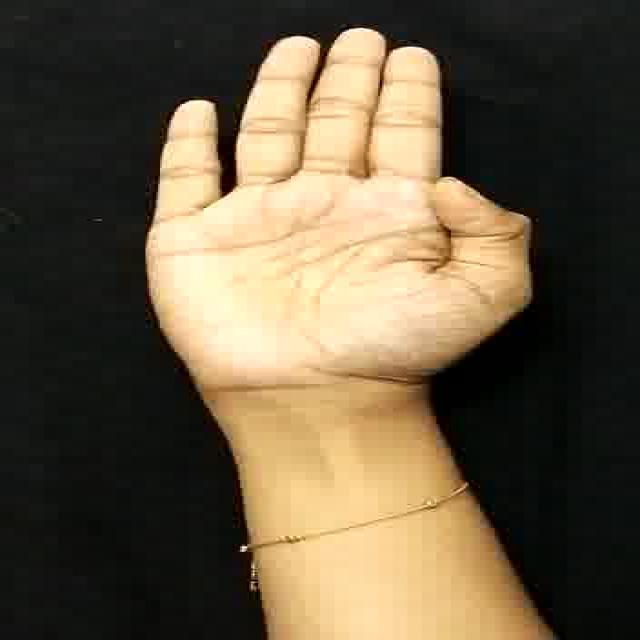pataka: (78, 18, 554, 426)
